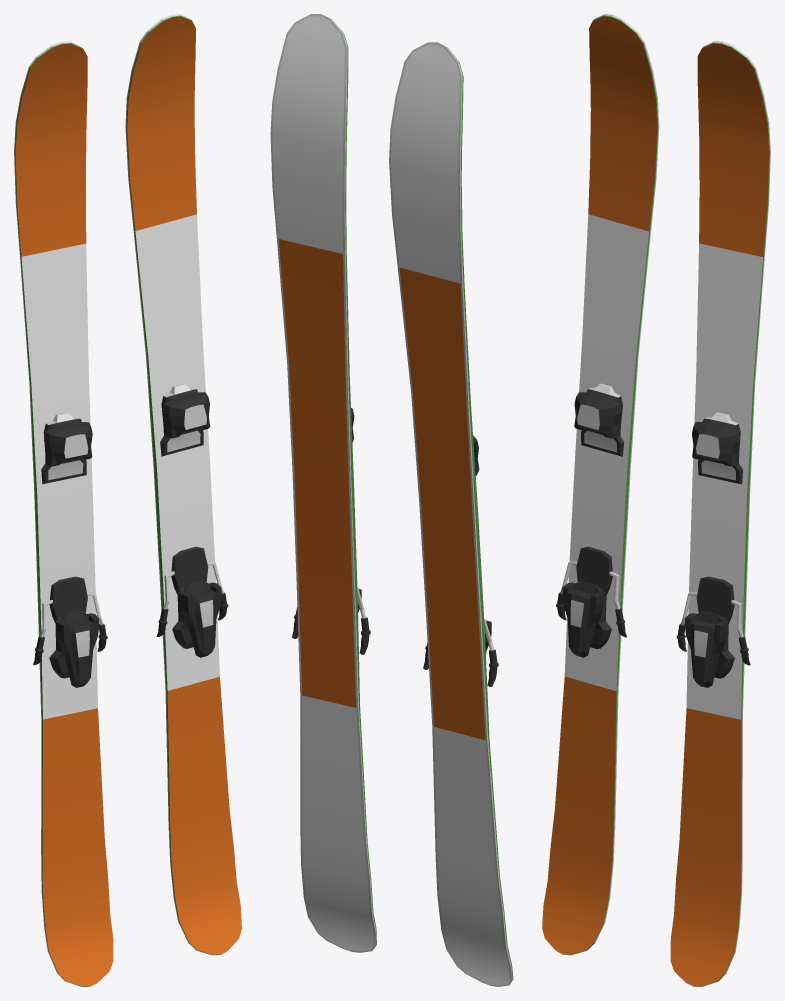
File: skis.glb
3 views of the same model, side by side, from view 1: azimuth 30°, elevation 25°; view 2: azimuth 150°, elevation 25°; view 3: azimuth 330°, elevation 25° (orthographic). The views are drawn at different scales.
Parts seen in each view (by area): view 1: Ski_L, Ski_R; view 2: Ski_R, Ski_L; view 3: Ski_R, Ski_L.
Boxes of the visible parts, <box> form: Ski_L: <box>14,41,113,986</box>; Ski_R: <box>125,14,241,955</box>; Ski_R: <box>270,14,376,952</box>; Ski_L: <box>389,42,513,986</box>; Ski_R: <box>670,41,770,986</box>; Ski_L: <box>542,14,659,955</box>.
Size of the model in its own units: 0.4057 by 1.85 by 0.196.
